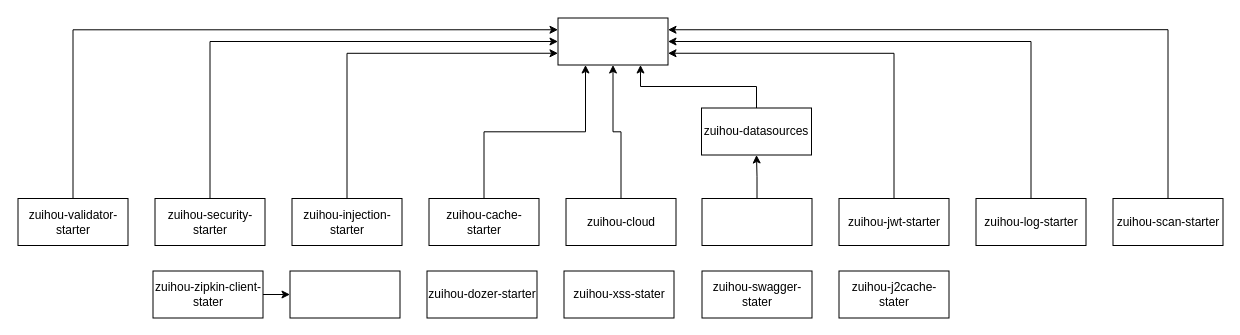
This 1240x335 diagram has some shape labels left out. The shapes that lost their labels are listed below. From the top down, each one's box as (x1, y1, x2, y2) in pixels, then its label:
(557, 17, 668, 65): zuihou-core
(701, 198, 812, 246): zuihou-boot
(289, 270, 400, 318): zuihou-mq-stater
